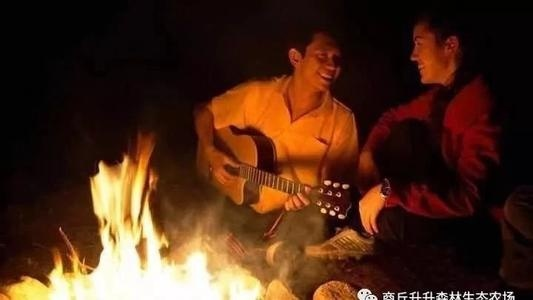fire: (12, 131, 228, 298)
